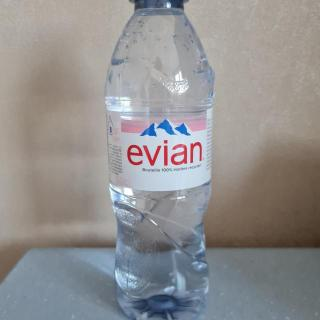Plastic-bottle: (102, 1, 218, 320)
